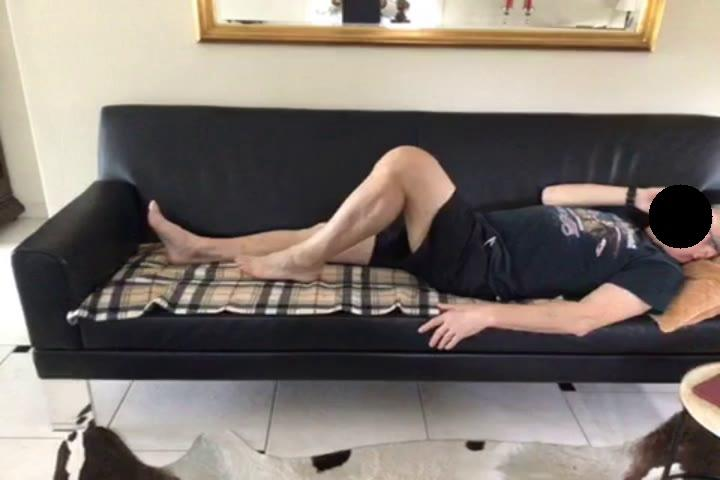lower_body: (147, 144, 513, 303)
